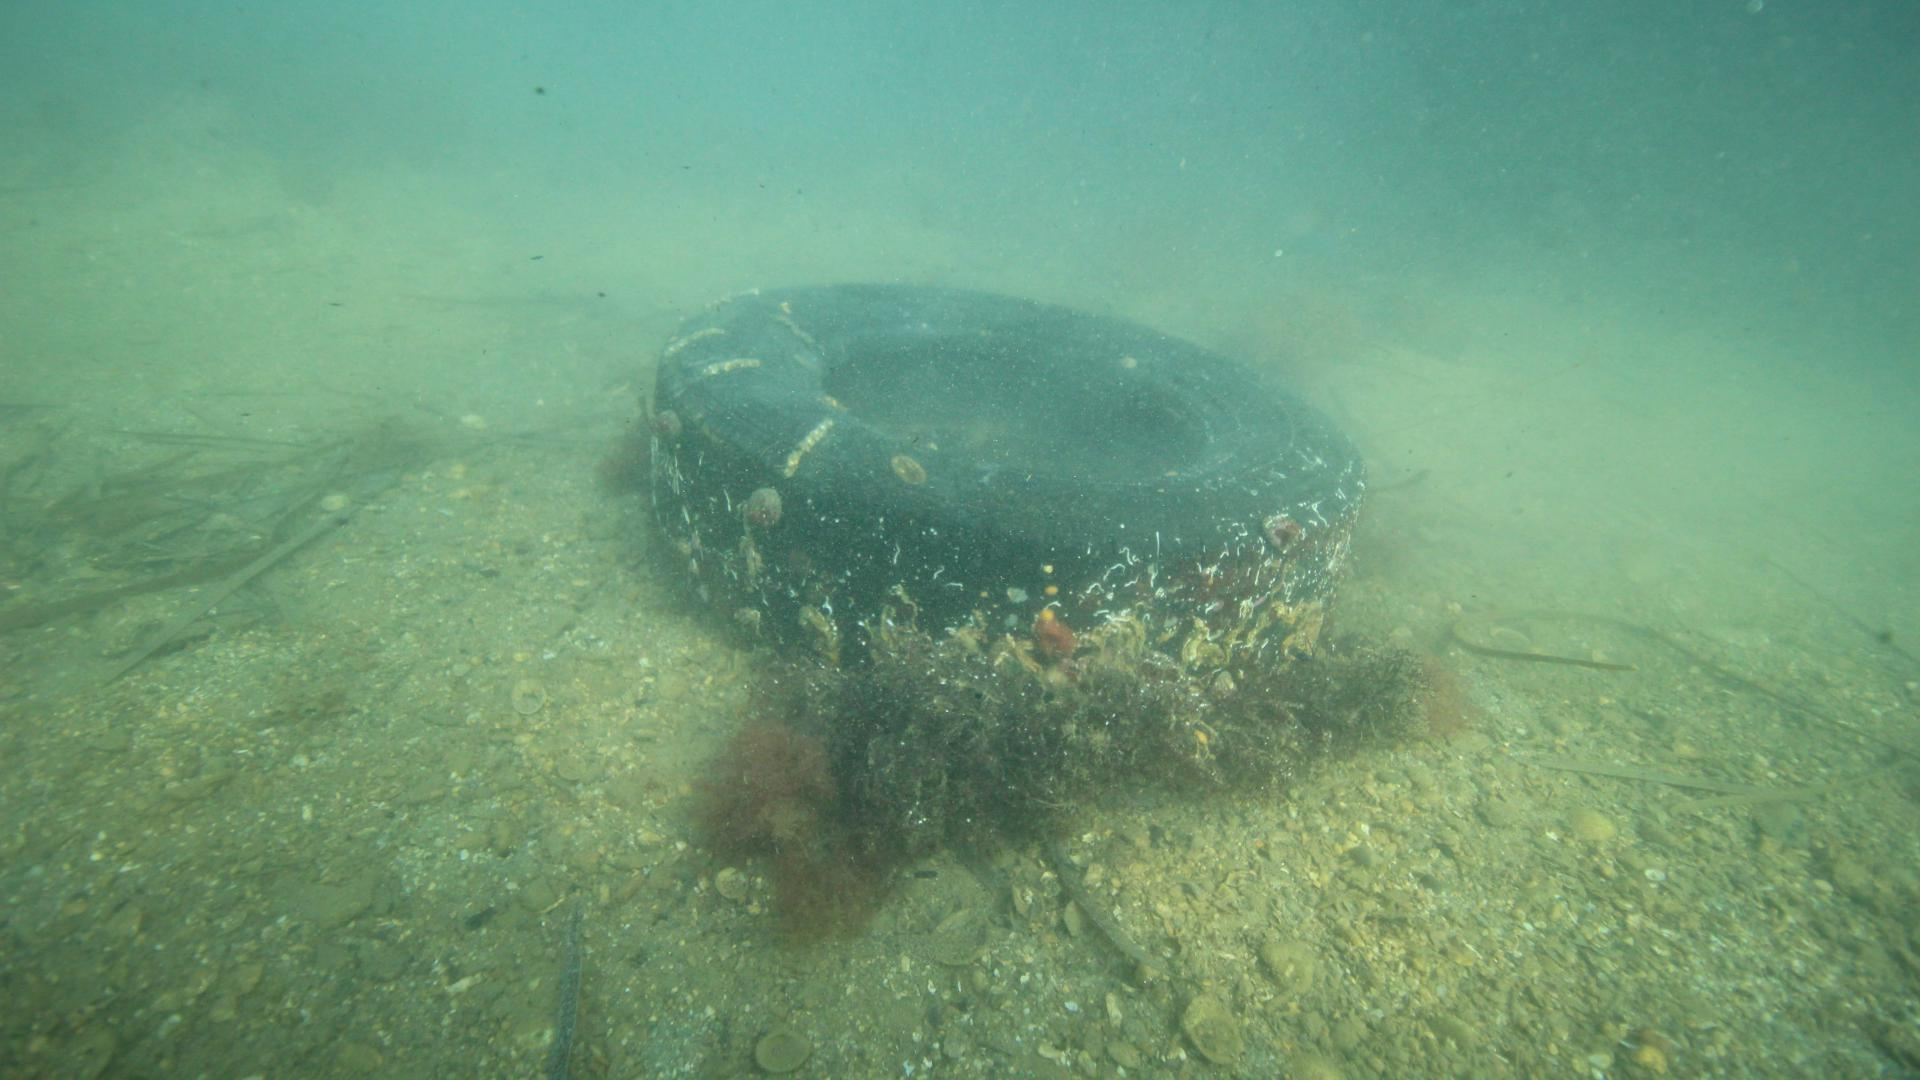tire: (642, 273, 1367, 753)
